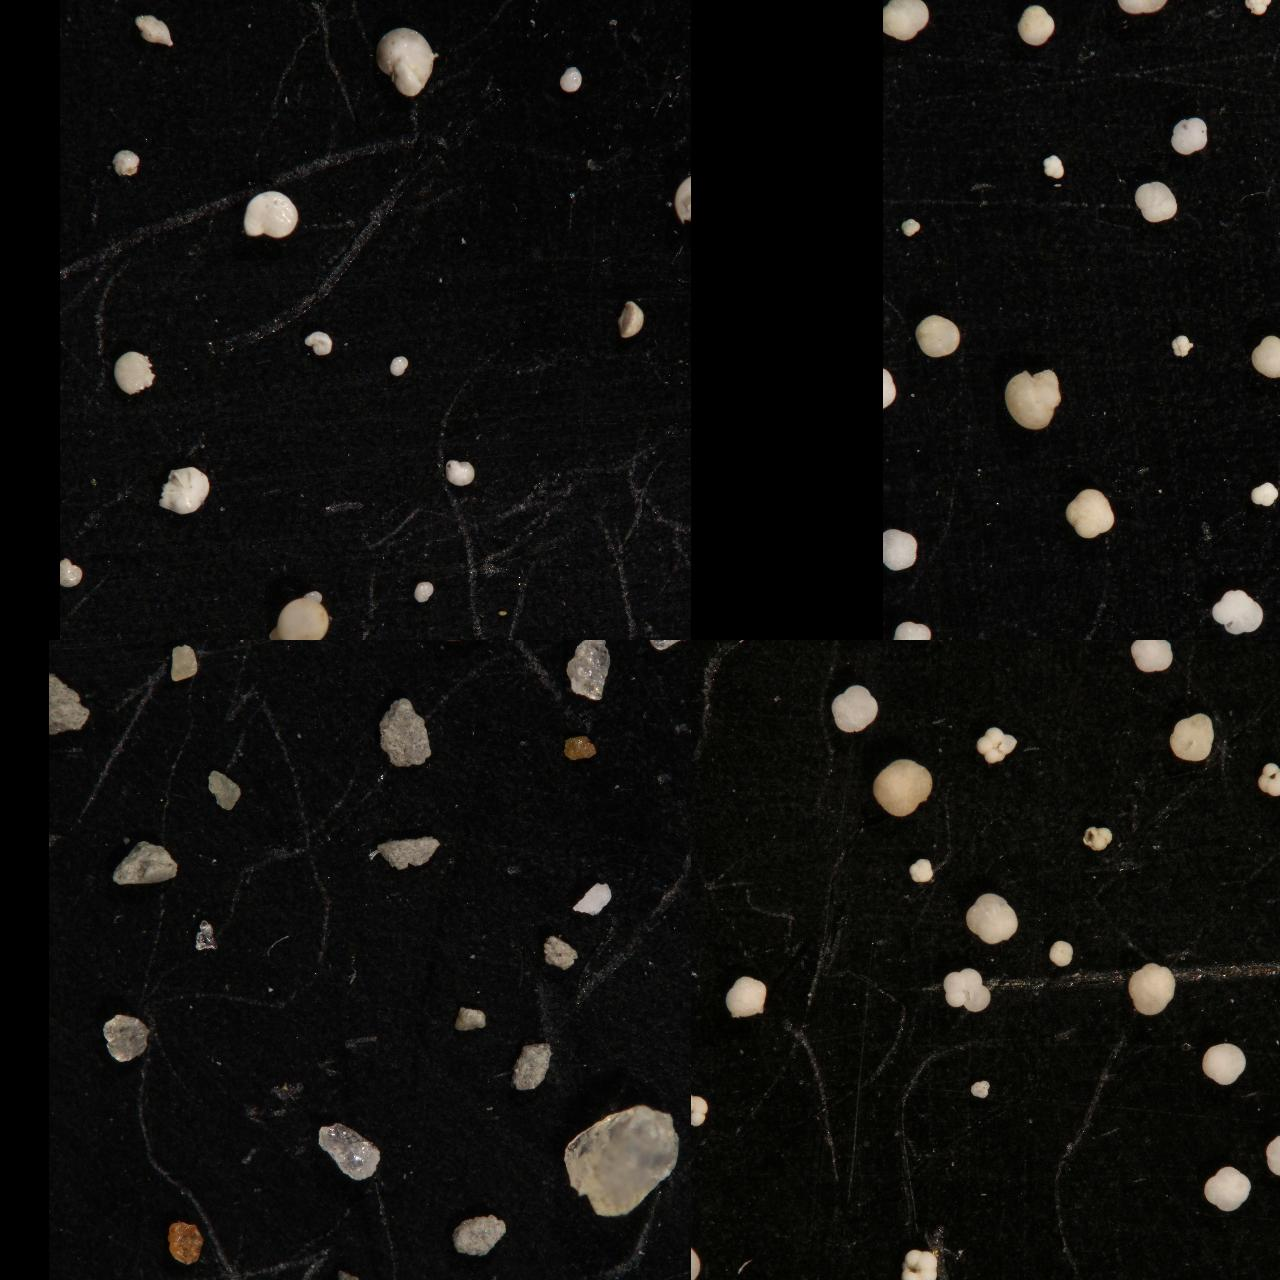Sediment: (561, 1103, 680, 1218), (315, 1119, 383, 1182), (376, 695, 431, 767), (109, 837, 178, 885), (563, 640, 613, 701), (366, 835, 438, 872), (452, 1211, 508, 1258), (49, 672, 89, 736), (100, 1012, 148, 1063), (236, 640, 311, 670), (513, 1042, 554, 1092), (164, 1219, 205, 1266), (205, 768, 245, 812), (438, 640, 493, 672), (570, 878, 612, 918), (459, 640, 508, 673), (542, 933, 578, 972), (166, 641, 199, 682), (316, 640, 356, 667), (549, 640, 601, 660), (647, 640, 692, 663), (525, 640, 578, 659), (191, 915, 218, 952), (561, 734, 597, 761), (429, 640, 468, 663), (456, 1003, 486, 1033), (579, 640, 622, 659), (297, 640, 335, 660), (86, 640, 125, 658), (324, 1265, 363, 1280), (220, 640, 248, 659), (49, 640, 77, 659), (410, 640, 440, 653)
calcareous: (373, 23, 436, 98), (264, 587, 332, 640), (240, 189, 301, 239), (285, 0, 363, 38), (158, 465, 210, 517), (113, 349, 156, 395), (134, 11, 175, 48), (615, 297, 645, 340), (673, 171, 692, 229), (552, 0, 600, 22), (108, 145, 139, 178), (444, 454, 474, 488), (304, 328, 333, 358), (557, 62, 581, 94), (61, 554, 83, 588), (181, 0, 218, 19), (414, 579, 434, 605), (389, 354, 409, 377)
planktic: (872, 756, 934, 817), (1003, 367, 1058, 431), (1126, 959, 1178, 1017), (964, 890, 1017, 944), (829, 681, 879, 735), (1211, 586, 1266, 635), (1064, 486, 1114, 538), (1204, 1164, 1254, 1213), (1169, 710, 1213, 763), (942, 966, 990, 1012), (1200, 1041, 1247, 1085), (913, 314, 961, 358), (1132, 179, 1178, 223), (883, 0, 930, 41), (726, 974, 767, 1019), (1184, 640, 1244, 669), (1015, 4, 1055, 47), (974, 724, 1017, 763), (1170, 115, 1208, 157), (1110, 0, 1167, 28), (883, 527, 917, 571), (1129, 640, 1173, 673), (1250, 333, 1280, 379), (899, 1246, 939, 1280), (692, 1239, 723, 1280), (1051, 640, 1104, 665), (692, 934, 715, 987), (908, 640, 955, 665), (734, 640, 779, 663), (840, 640, 885, 661), (1257, 760, 1280, 797), (1083, 823, 1114, 851), (1262, 1130, 1280, 1178), (892, 620, 931, 640), (1250, 481, 1276, 508), (1049, 938, 1073, 968), (1170, 333, 1194, 359), (908, 857, 933, 883), (1042, 154, 1065, 179), (898, 215, 922, 238), (692, 1091, 708, 1126), (1166, 0, 1197, 19), (1242, 0, 1273, 18), (971, 1078, 989, 1097), (857, 640, 881, 651), (692, 709, 701, 736)
